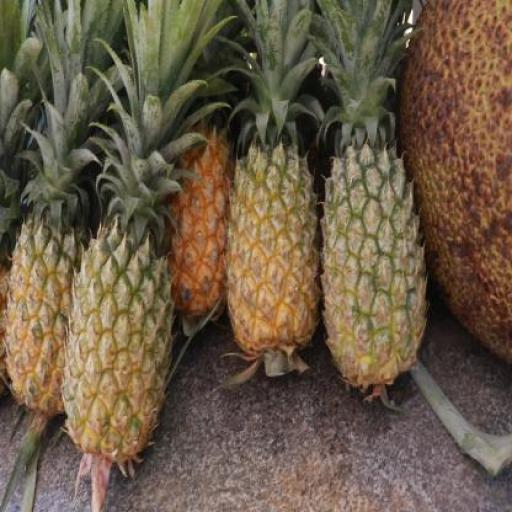------------------------------: (66, 224, 170, 446)
Pineapple - v8 v1: (226, 143, 319, 346), (5, 218, 86, 413), (170, 124, 236, 319)
